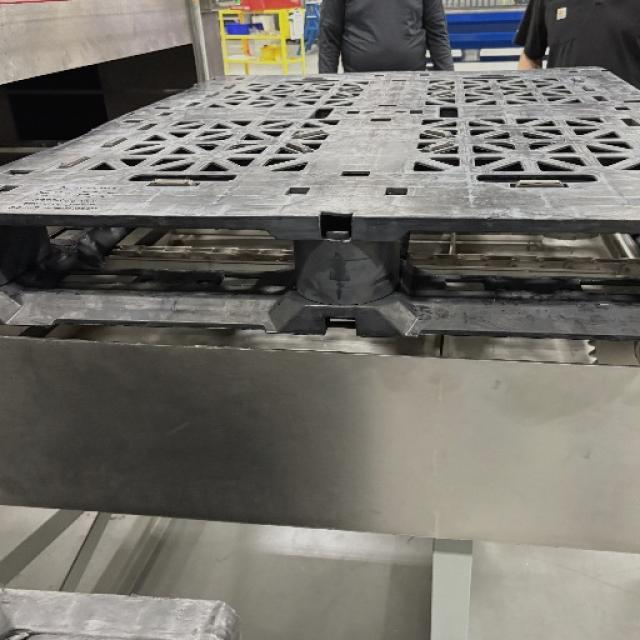igps: (0, 58, 640, 363)
